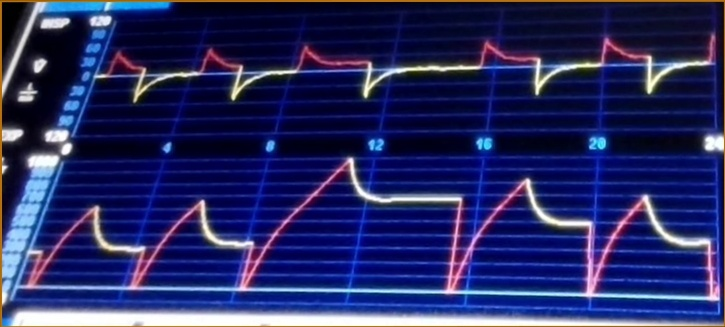Flow: (105, 28, 716, 123)
Leakage Volume: (28, 165, 718, 306)
